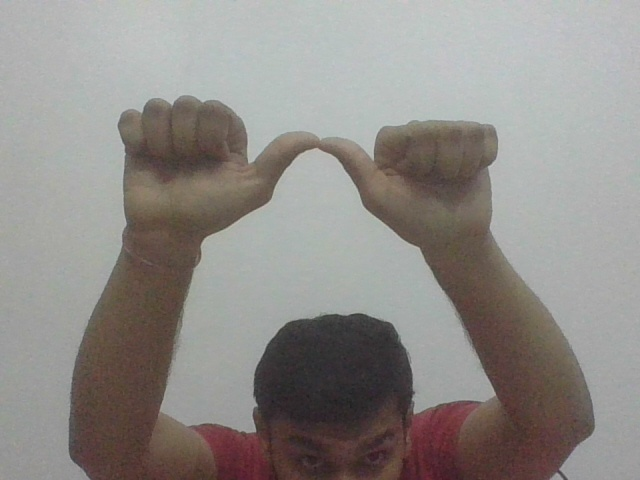A: (107, 93, 503, 248)
